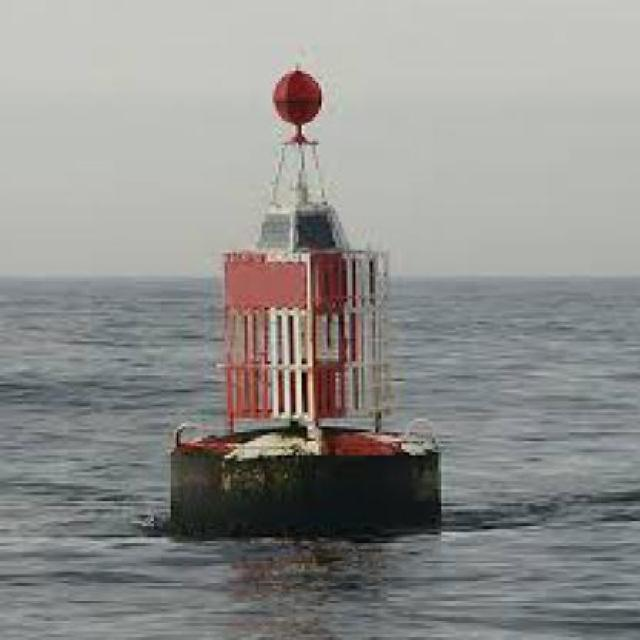buoy: (155, 43, 456, 556)
